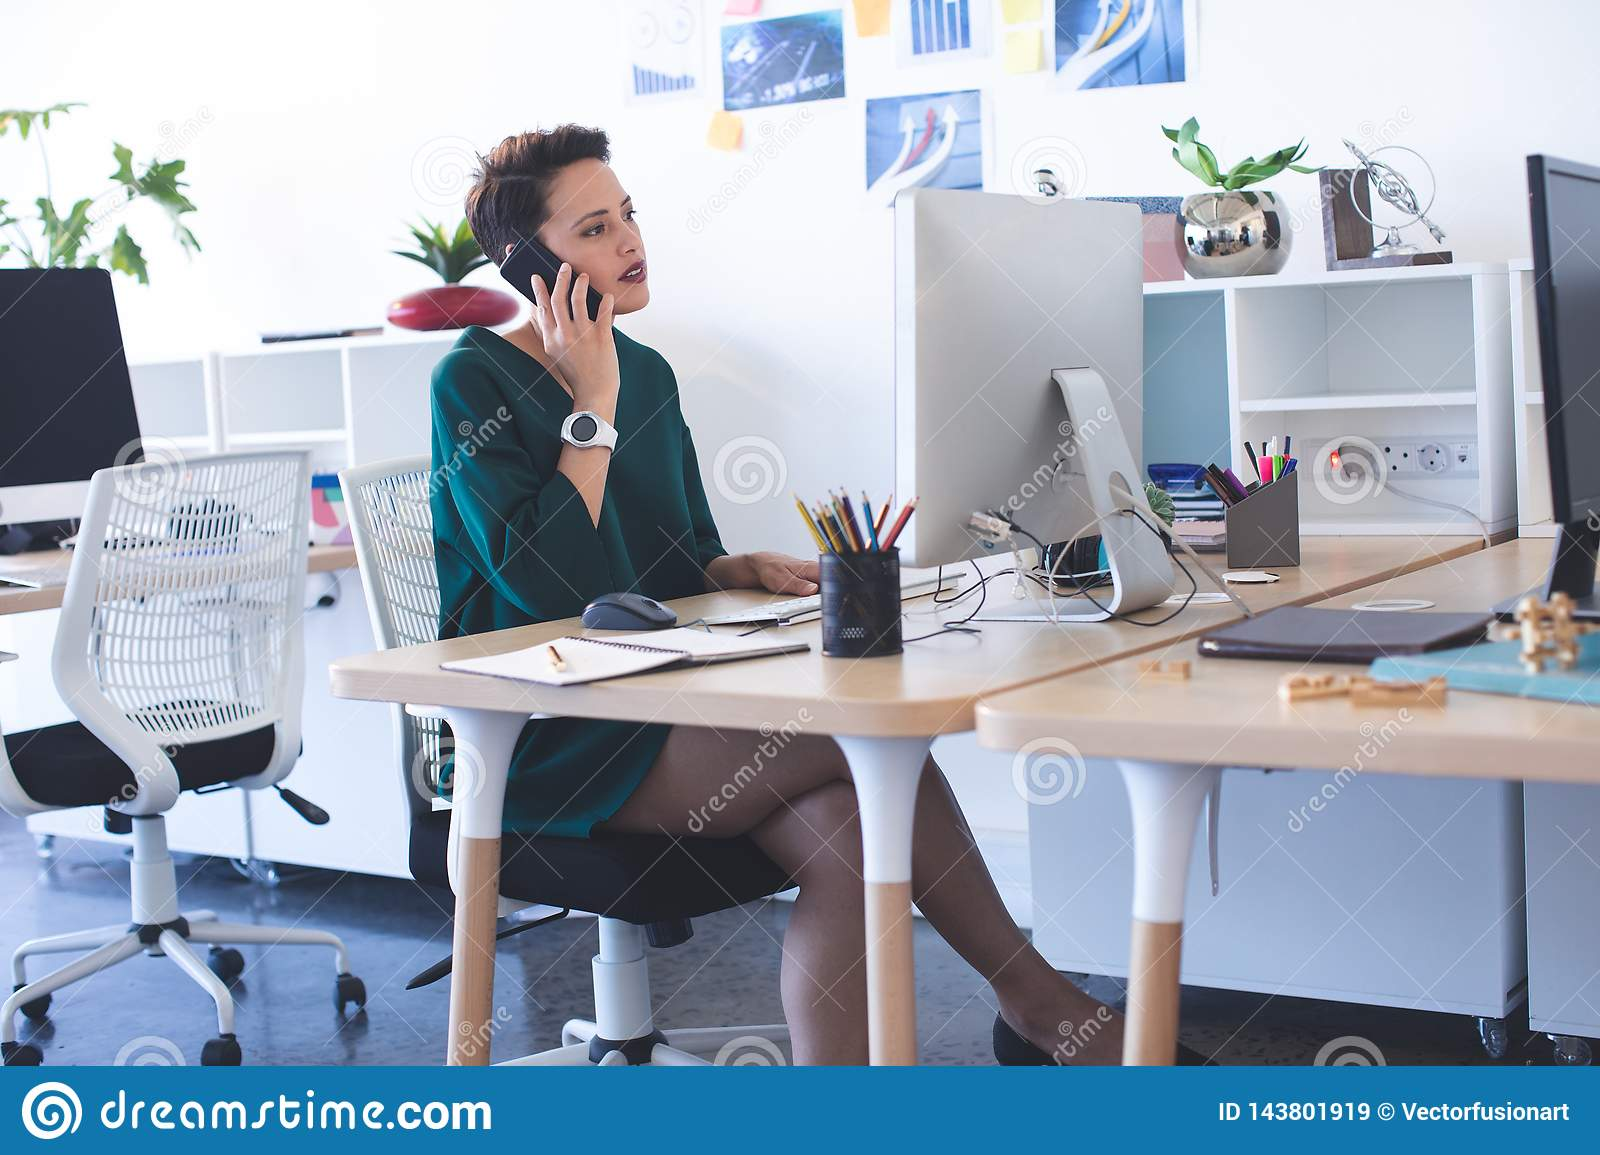phone: (504, 241, 607, 337)
talk: (506, 189, 653, 407)
